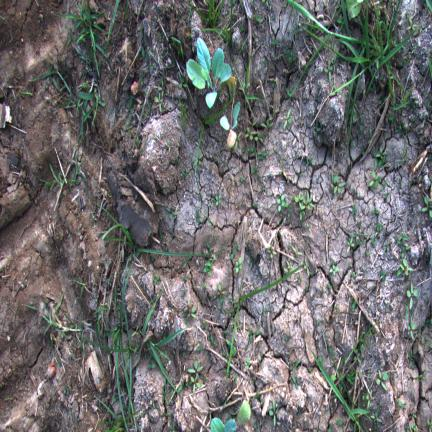crop: (187, 38, 231, 108)
